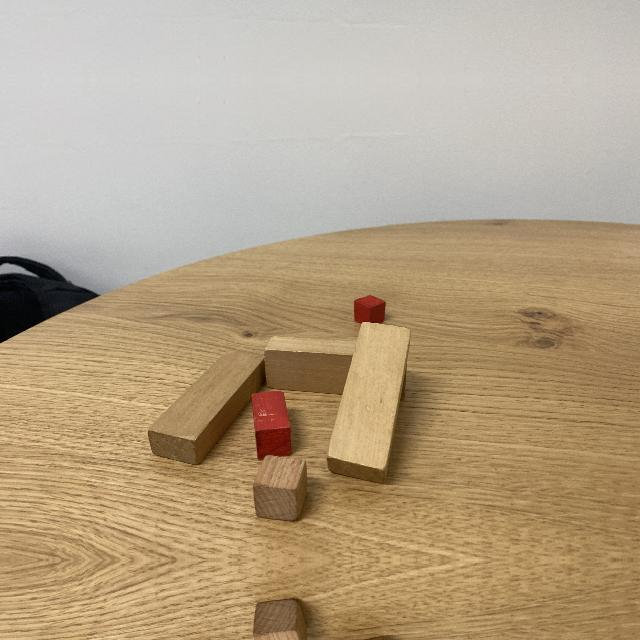cube: (253, 455, 309, 524), (253, 596, 309, 640)
jenga: (146, 347, 267, 468), (326, 321, 411, 484), (265, 334, 361, 392)
red block: (251, 391, 292, 459)
red cube: (353, 296, 386, 324)
